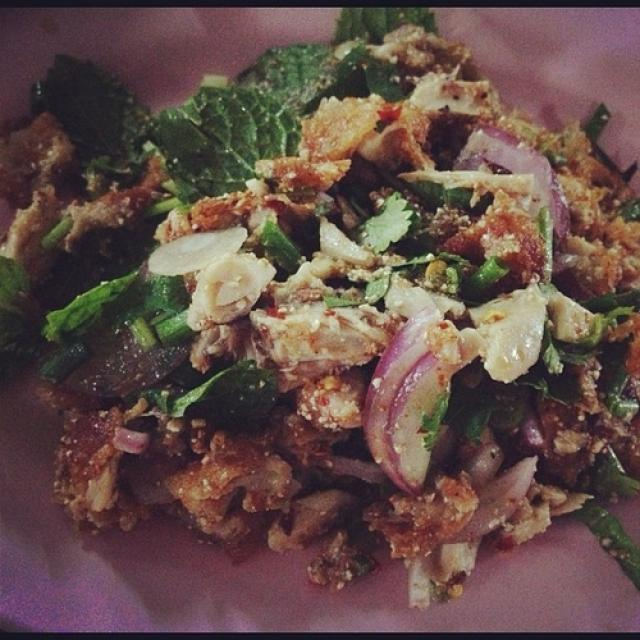鸡肉料理 含炸鸡: (11, 13, 621, 596)
